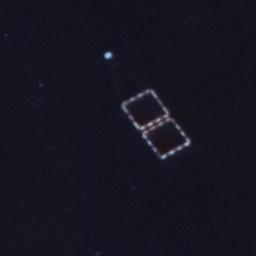square_solid: (117, 86, 174, 135), (139, 114, 194, 164)
